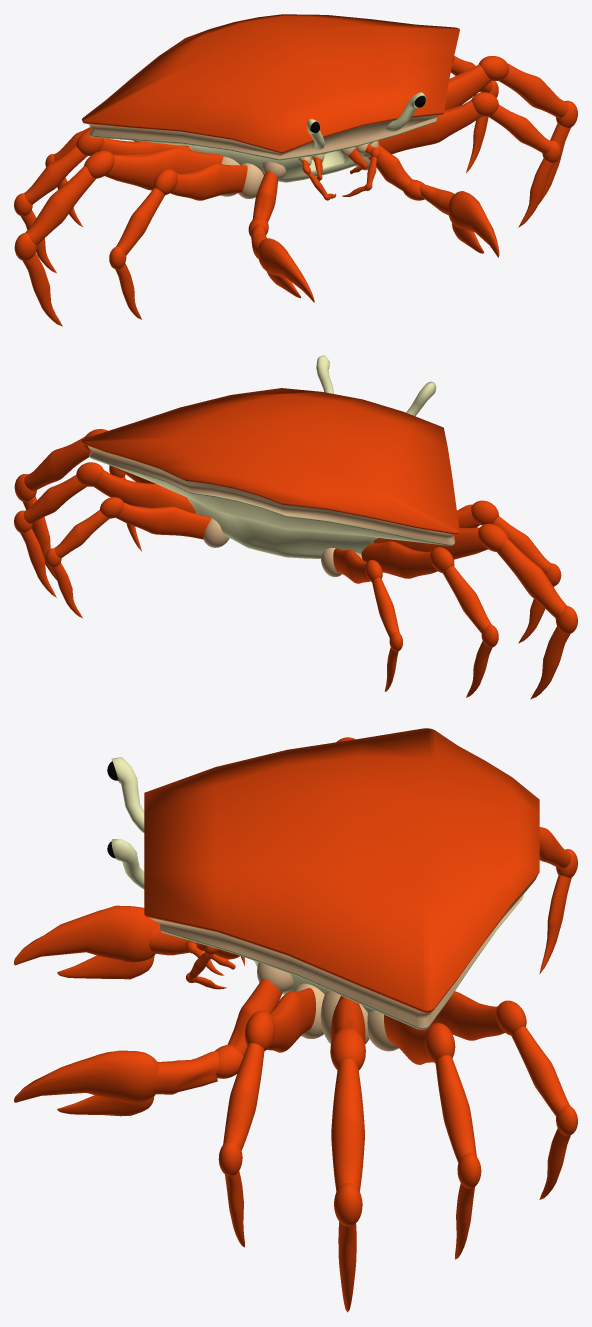
The model's file is crab.gltf.
The picture shows the model from 3 angles, top to bottom: view 1: azimuth 30°, elevation 25°; view 2: azimuth 150°, elevation 25°; view 3: azimuth 270°, elevation 25°; orthographic projection. The views are drawn at different scales.
Parts seen in each view (by area): view 1: Plane, Cylinder, Cylinder.003, Cylinder.015, Cylinder.001, Cylinder.013, Sphere.028, Sphere.044, Cylinder.007, Cylinder.016, Cylinder.004, Cylinder.012 (+18 smaller); view 2: Plane, Cylinder.021, Cylinder.018, Cylinder.001, Cylinder.006, Cylinder.013, Cylinder, Cylinder.019, Cylinder.007, Cylinder.002, Cylinder.022, Cylinder.004 (+14 smaller); view 3: Plane, Sphere.044, Sphere.028, Cylinder.013, Cylinder.019, Cylinder.016, Cylinder.021, Cylinder.015, Cylinder.022, Cylinder.027, Sphere.045, Cylinder.026 (+18 smaller).
Part boxes in pixels (box(x1,y1,x2,y2)): Plane: box(82, 14, 459, 182); Cylinder: box(105, 147, 223, 190); Cylinder.003: box(170, 163, 247, 200); Cylinder.015: box(378, 100, 481, 154); Cylinder.001: box(25, 166, 95, 245); Cylinder.013: box(498, 63, 568, 117); Sphere.028: box(448, 191, 499, 257); Sphere.044: box(258, 238, 314, 302); Cylinder.007: box(24, 146, 87, 204); Cylinder.016: box(488, 104, 551, 153); Cylinder.004: box(116, 188, 164, 255); Cylinder.012: box(444, 64, 491, 110); Plane: box(81, 388, 459, 558); Cylinder.021: box(116, 502, 211, 539); Cylinder.018: box(93, 470, 195, 513); Cylinder.001: box(497, 539, 566, 618); Cylinder.006: box(361, 541, 437, 578); Cylinder.013: box(24, 436, 89, 490); Cylinder: box(373, 527, 487, 559); Cylinder.019: box(23, 475, 86, 523); Cylinder.007: box(443, 566, 491, 633); Cylinder.002: box(530, 626, 570, 699); Cylinder.022: box(54, 510, 109, 558); Cylinder.004: box(492, 516, 550, 573); Plane: box(144, 728, 539, 1029); Sphere.044: box(14, 905, 157, 965); Sphere.028: box(14, 1050, 158, 1103); Cylinder.013: box(331, 1059, 364, 1191); Cylinder.019: box(435, 1055, 476, 1162); Cylinder.016: box(223, 1043, 264, 1150); Cylinder.021: box(430, 991, 504, 1040); Cylinder.015: box(267, 988, 315, 1052); Cylinder.022: box(511, 1026, 569, 1116); Cylinder.027: box(153, 1051, 218, 1094); Sphere.045: box(57, 955, 154, 979); Cylinder.026: box(227, 979, 282, 1055).
Bounding box in the file's own units: 7.81 × 3.01 × 4.44.
